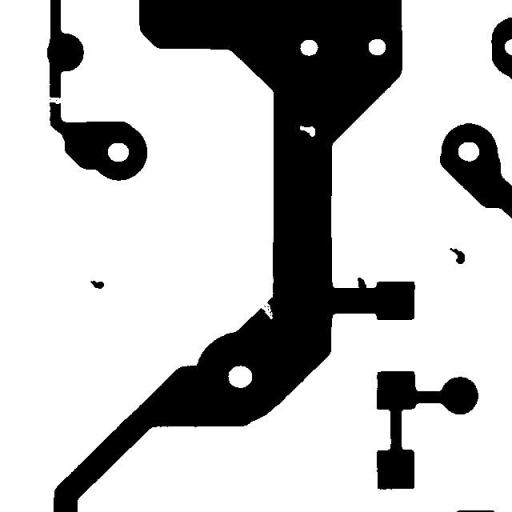copper: (442, 240, 472, 271), (82, 273, 112, 296)
mousebite: (253, 293, 280, 326)
open: (38, 89, 70, 111)
pin-hole: (292, 118, 322, 144)
spur: (350, 270, 374, 296)
